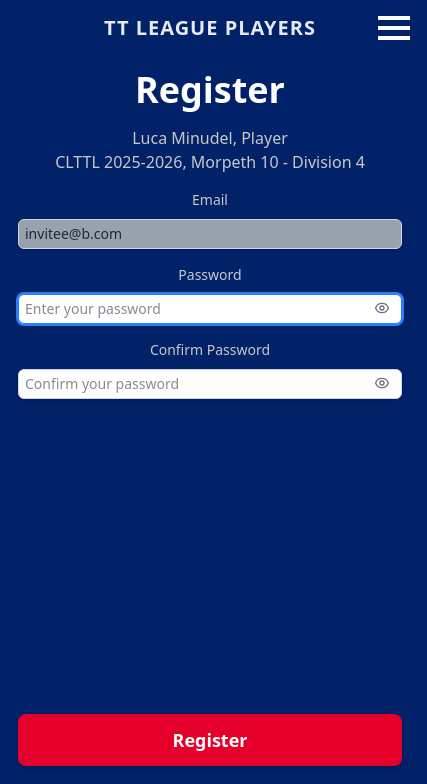
Test: Register page › with an invite › when accepting the invite fails › for an existing account, stays on the page with the error and no way forward
Step 1. Type "aA1!56789012" into the password field labelled "Password" → (210, 309), box [18,294,402,324]
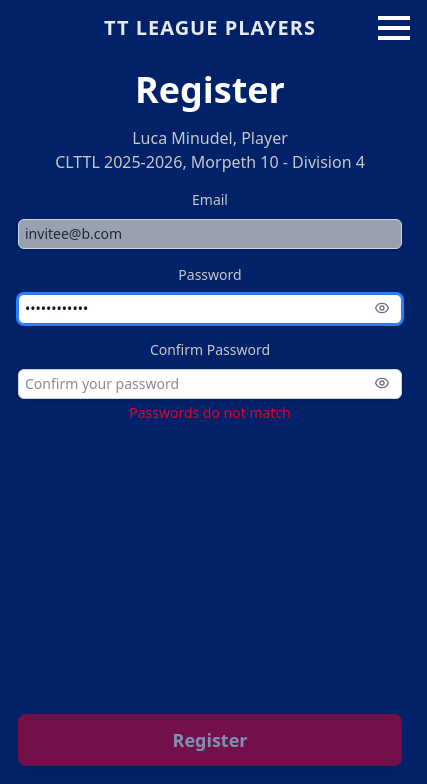
Step 2. Type "aA1!56789012" into the password field labelled "Confirm Password" → (210, 384), box [18,369,402,399]
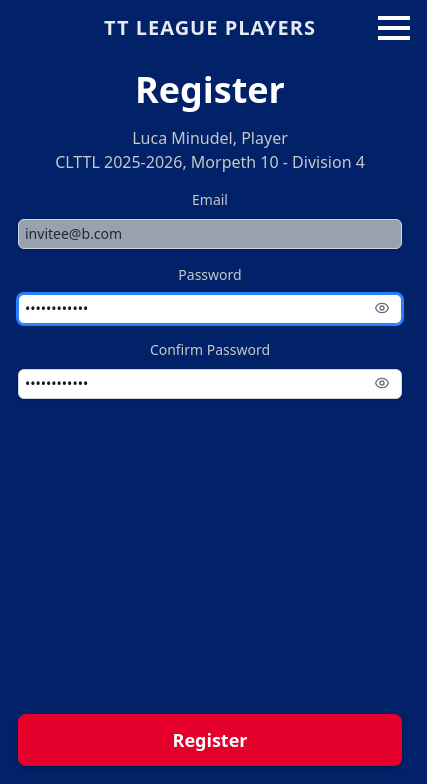
Step 3. Click the button with test id "register-submit-button" → (210, 740), box [18,714,402,766]
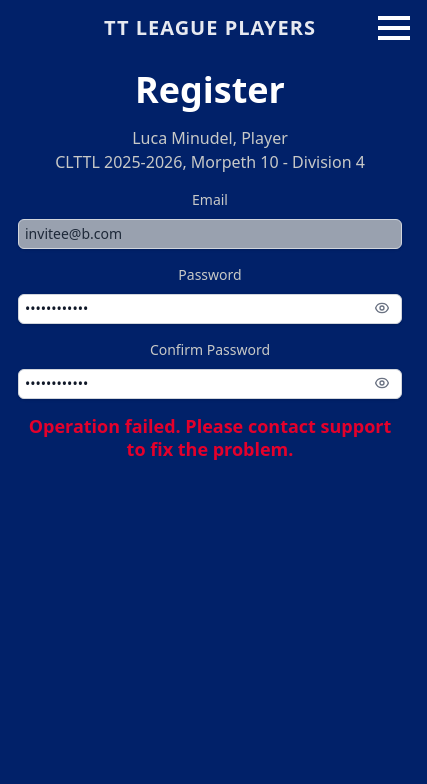
expect the text with test id "register-error-message" reads "Operation failed. Please contact support to fix the problem.": met, box [29,414,391,460]
expect the button with test id "register-submit-button" is gone: met
